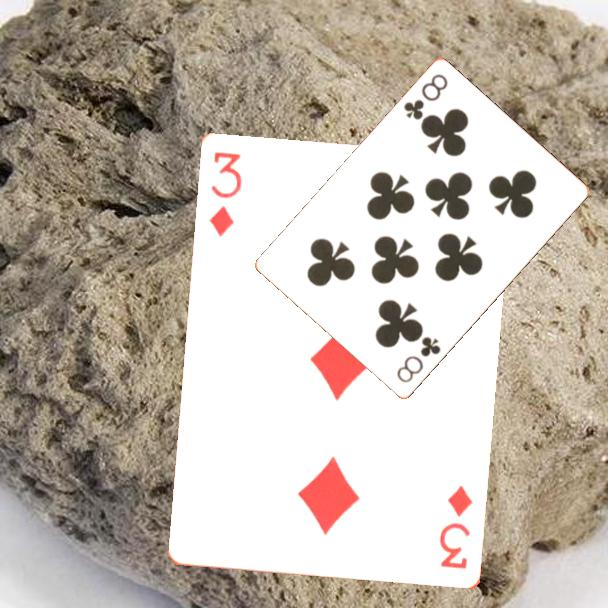c08: (393, 333, 444, 386), (400, 71, 451, 123)
d03: (206, 148, 245, 240), (437, 482, 476, 573)
